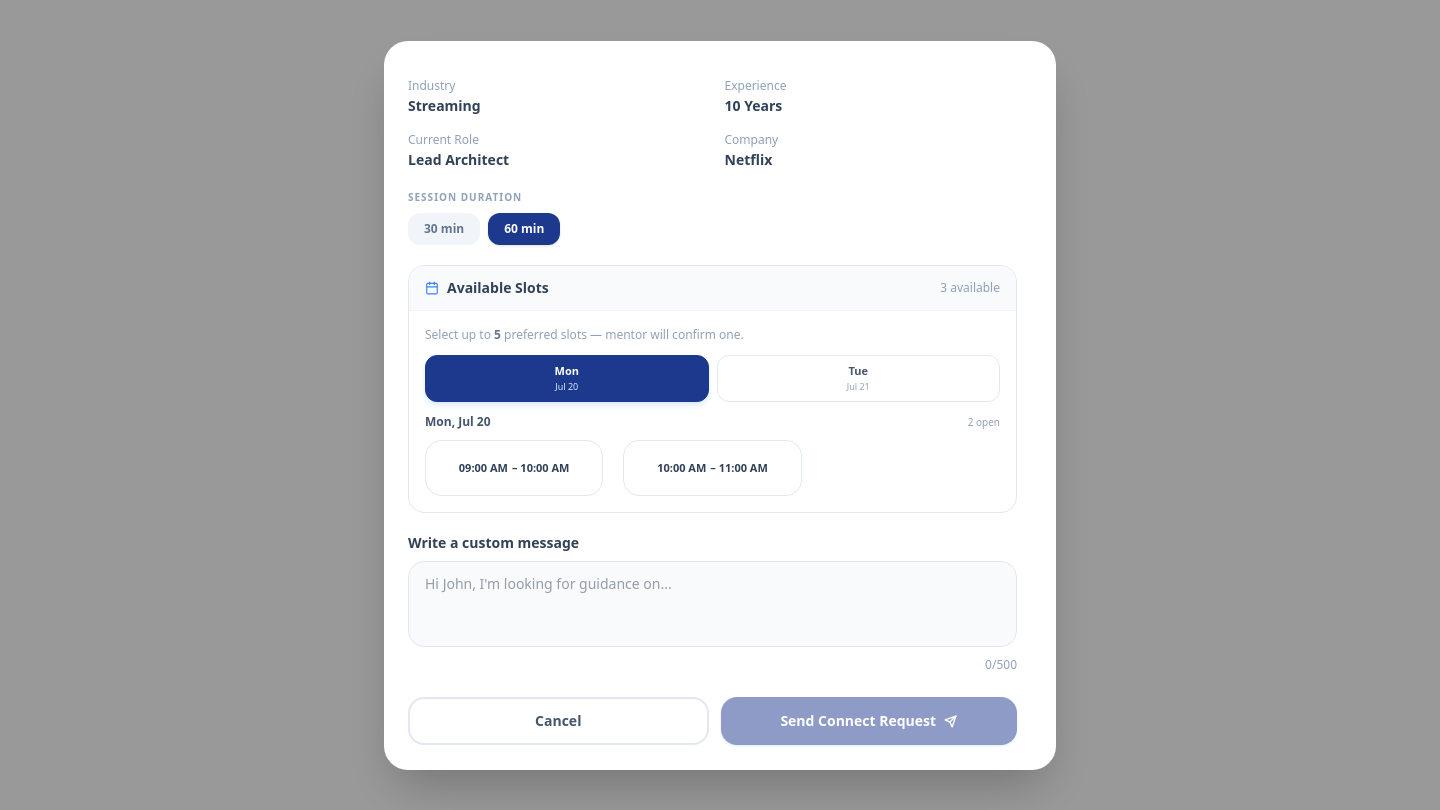
Test: MentorProfileModal › handles hold slot failure gracefully
The width and height of the screenshot is (1440, 810).
(page scrolled)
Step 1. Click the button "09:00 AM – 10:00 AM" → coordinates (514, 468), box [425,440,603,496]
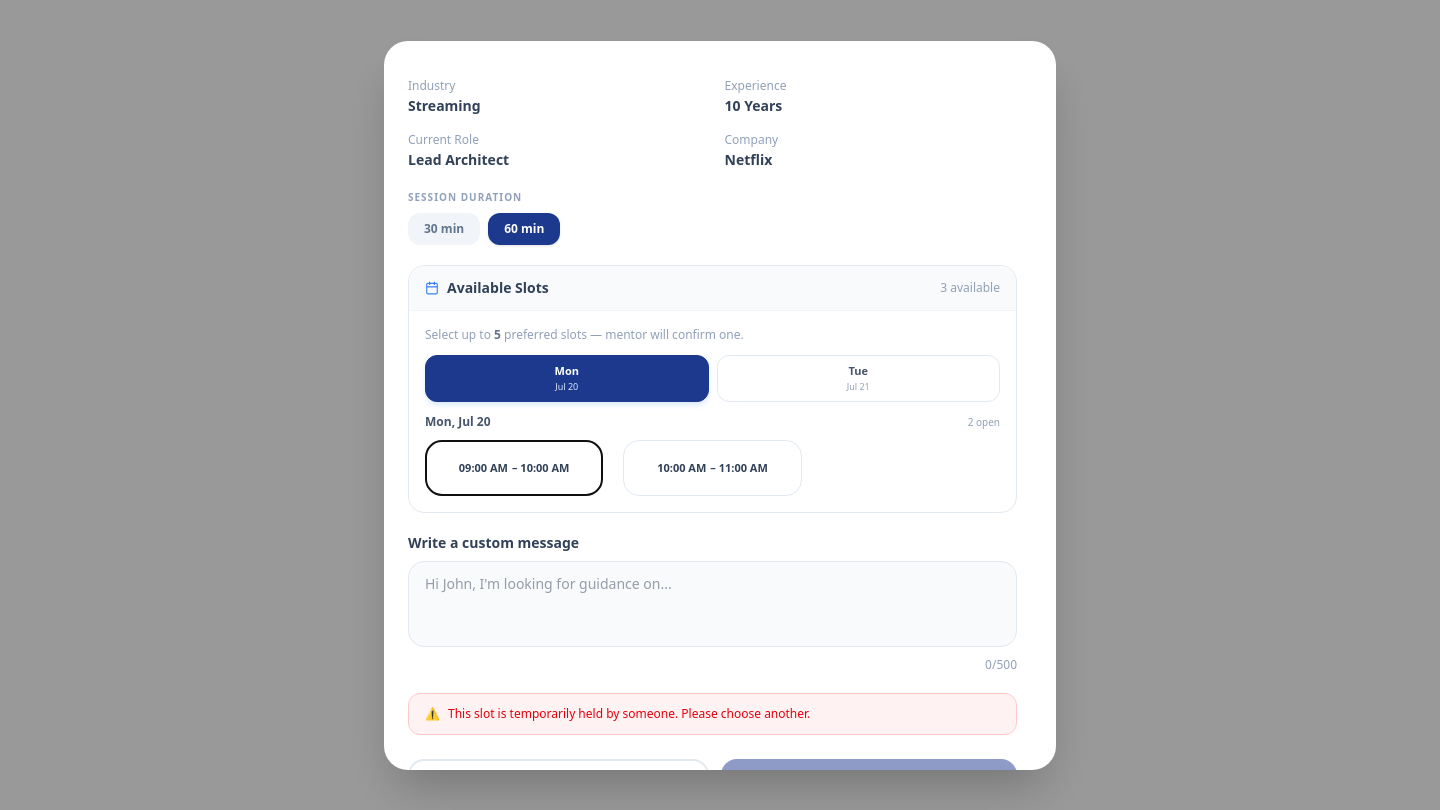
Expected: the text "This slot is temporarily held" is shown, [448,705,810,722]
